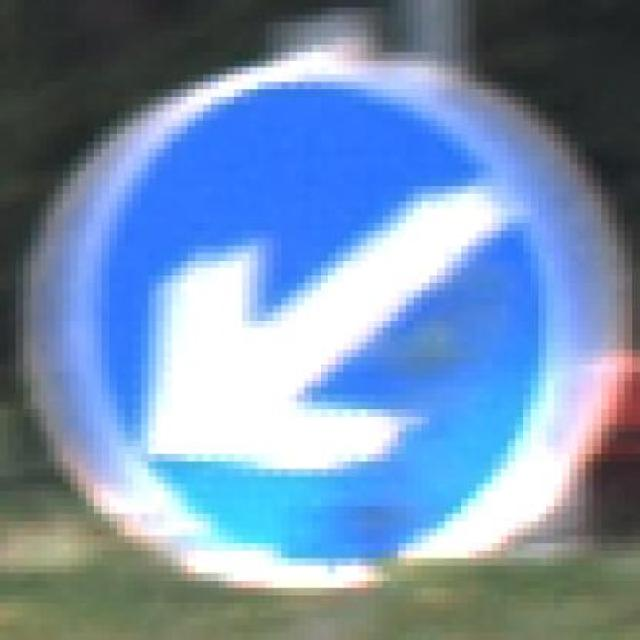Keep-Left: (15, 37, 632, 595)
